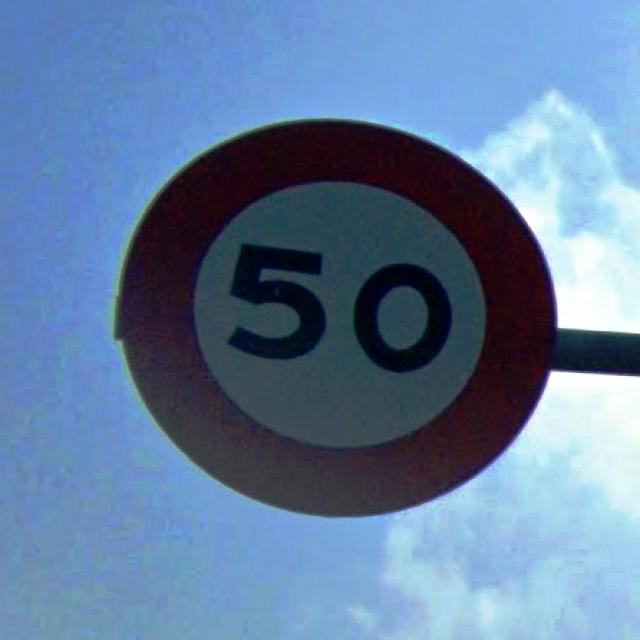max50: (112, 115, 558, 518)
